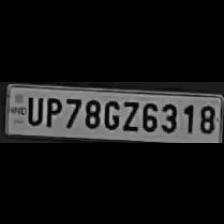1: (180, 99, 196, 133)
3: (158, 98, 178, 132)
6: (139, 98, 157, 132)
7: (60, 94, 82, 128)
8: (196, 100, 216, 134), (82, 95, 100, 129)
G: (101, 95, 119, 129)
P: (42, 93, 62, 126)
U: (23, 93, 43, 125)
Z: (119, 96, 138, 130)
